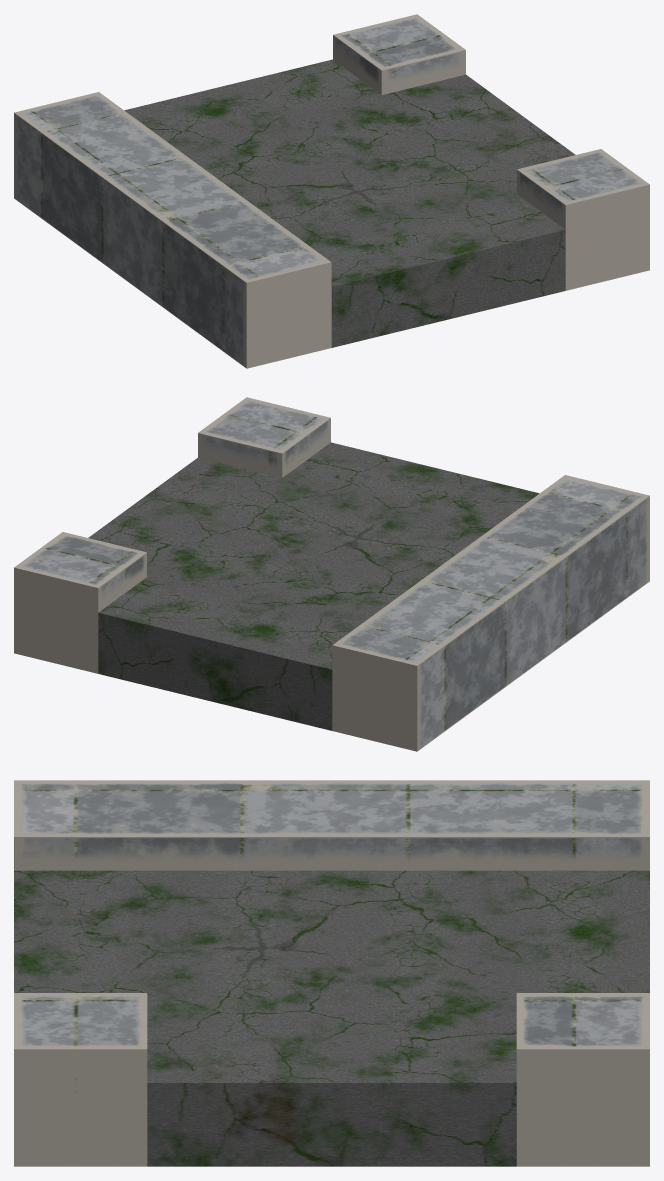
The model's file is Road(T).fbx.
3 views of the same model, one above another, from view 1: azimuth 30°, elevation 25°; view 2: azimuth 150°, elevation 25°; view 3: azimuth 270°, elevation 25° (orthographic). The views are drawn at different scales.
Parts seen in each view (by area): view 1: Paving(T); view 2: Paving(T); view 3: Paving(T).
Boxes of the visible parts, x1,y1,x2,y2 form: Paving(T): [14, 14, 649, 368]; Paving(T): [14, 397, 649, 751]; Paving(T): [14, 780, 649, 1166].
Size of the model in its own units: 690 by 140 by 690.
Materials: 2 (2 with a texture image).
